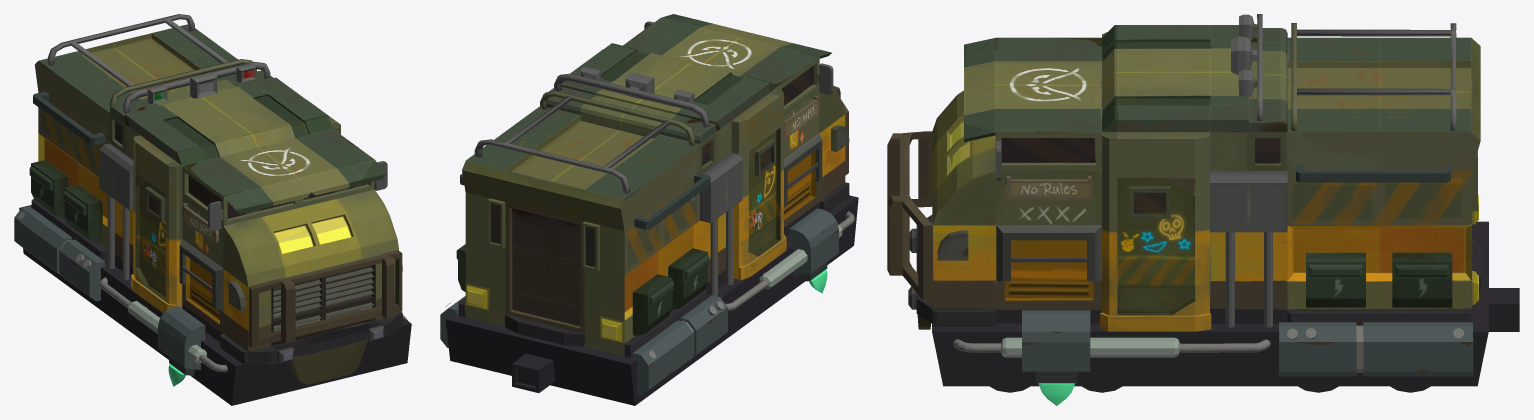
File: mesh_eng_1.fbx
3 views of the same model, side by side, from view 1: azimuth 30°, elevation 25°; view 2: azimuth 150°, elevation 25°; view 3: azimuth 270°, elevation 25° (orthographic). The views are drawn at different scales.
Parts seen in each view (by area): view 1: eng_1_base, eng_1_com; view 2: eng_1_base, eng_1_com; view 3: eng_1_base, eng_1_com, eng_1_nozzle.
Part boxes in pixels (x1,y1,x2,y2): eng_1_base: [29, 14, 402, 384]; eng_1_com: [14, 205, 411, 405]; eng_1_base: [456, 14, 849, 357]; eng_1_com: [440, 195, 858, 405]; eng_1_base: [887, 14, 1480, 331]; eng_1_com: [932, 221, 1519, 392]; eng_1_nozzle: [1038, 383, 1074, 405].
Size of the model in its own units: 4 by 4.39 by 8.18.
